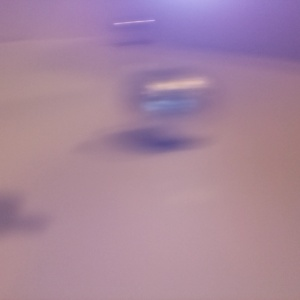alive_ball: (132, 26, 222, 122), (20, 35, 80, 94)
dead_ball: (58, 29, 106, 82)
